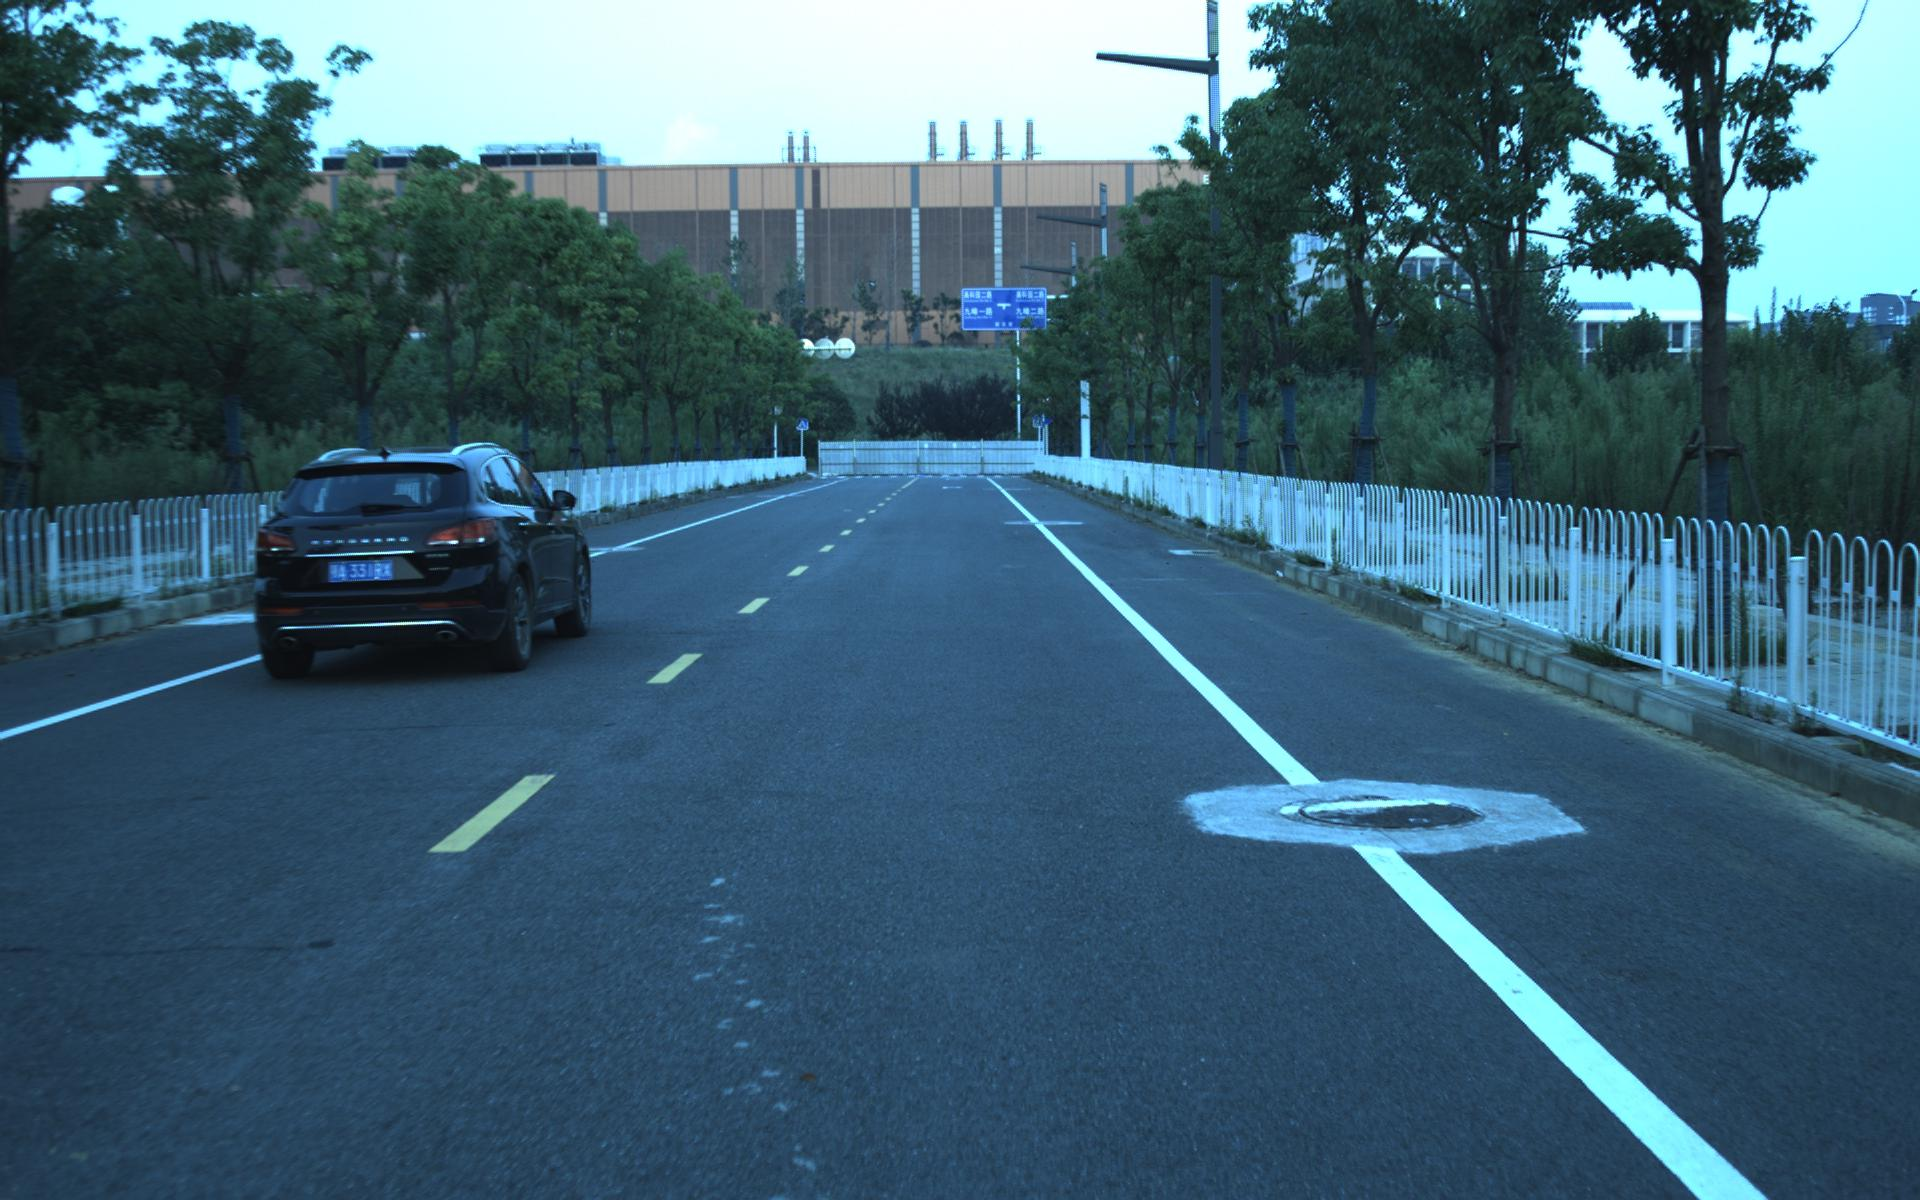Car: (236, 435, 600, 682)
